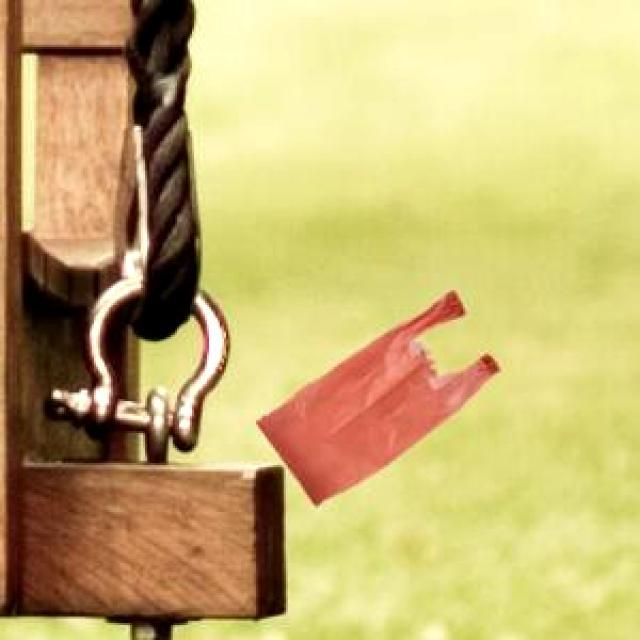Plastic_Bag: (253, 287, 498, 502)
